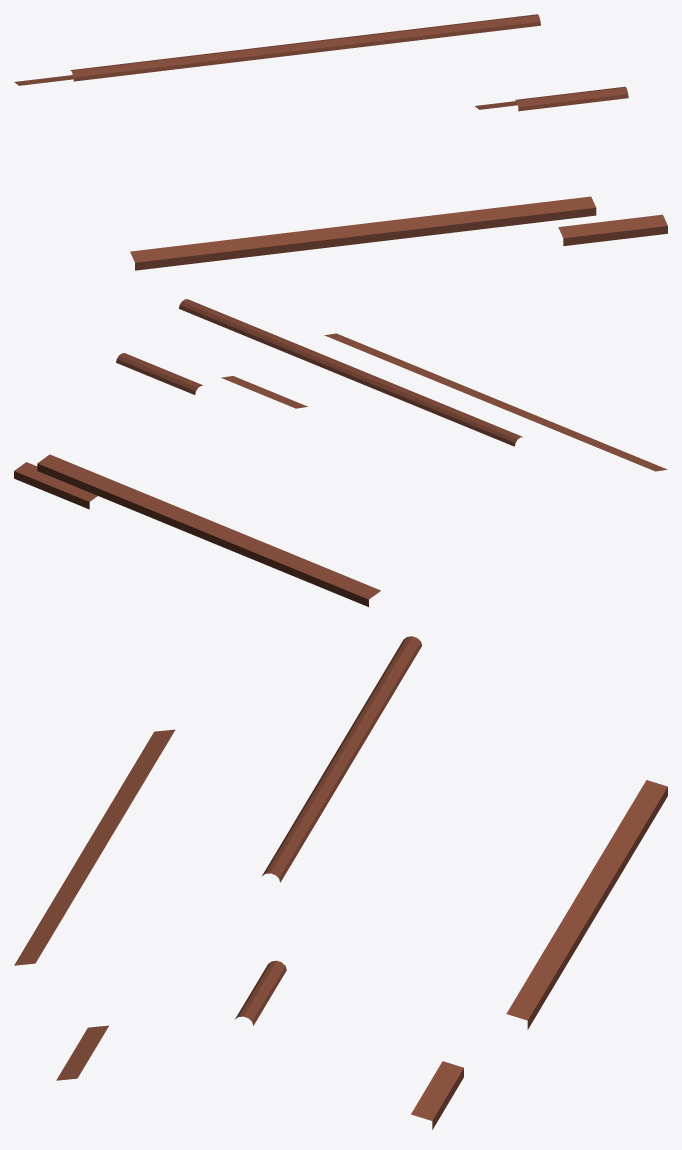
The picture shows the model from 3 angles, top to bottom: view 1: azimuth 30°, elevation 25°; view 2: azimuth 150°, elevation 25°; view 3: azimuth 270°, elevation 25°; orthographic projection. The views are drawn at different scales.
Parts seen in each view (by area): view 1: detail; view 2: detail; view 3: detail.
Part boxes in pixels (x1,y1,x2,y2): detail: (14,14,667,270); detail: (14,299,667,606); detail: (14,636,667,1129).
Bounding box in the file's own units: 11.17 × 3.21 × 9.46.
